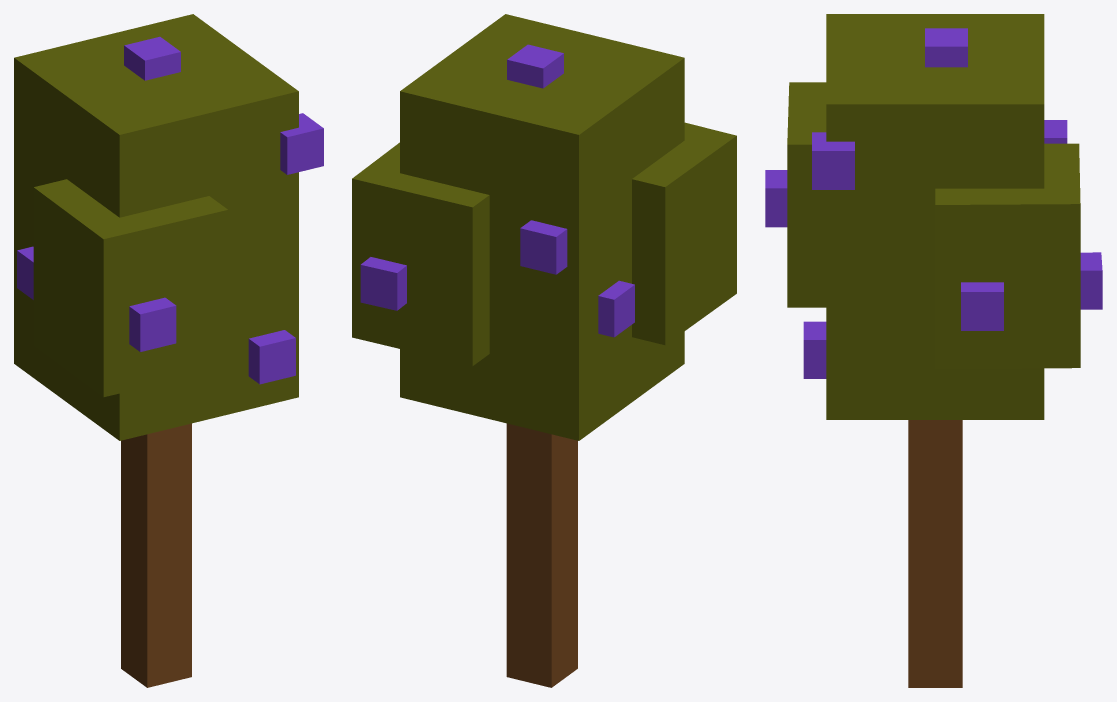
Rendered from Wood2.fbx.
The picture shows the model from 3 angles, left to right: view 1: azimuth 30°, elevation 25°; view 2: azimuth 150°, elevation 25°; view 3: azimuth 270°, elevation 25°; orthographic projection. The views are drawn at different scales.
Visible parts, largest first — view 1: Cube.004, Cube.008; view 2: Cube.004, Cube.008; view 3: Cube.004, Cube.008.
Boxes of the visible parts, x1,y1,x2,y2 form: Cube.004: (14,14,298,687); Cube.008: (17,36,323,384); Cube.004: (352,14,736,687); Cube.008: (360,44,634,337); Cube.004: (787,14,1080,687); Cube.008: (765,28,1102,378).
Size of the model in its own units: 3948 by 8752 by 4179.
